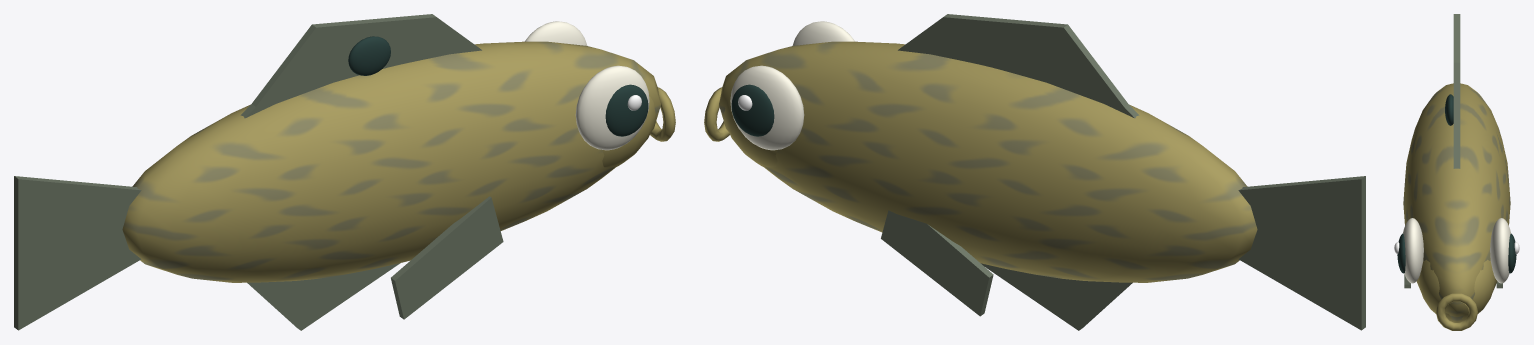
The model's file is hexagrammos-otakii.glb.
3 views of the same model, side by side, from view 1: azimuth 30°, elevation 25°; view 2: azimuth 150°, elevation 25°; view 3: azimuth 270°, elevation 25° (orthographic). The views are drawn at different scales.
Visible parts, largest first — view 1: hexagrammos-otakii, tail, pectoral-1, mouth; view 2: hexagrammos-otakii, tail, pectoral-0, mouth; view 3: hexagrammos-otakii, mouth, tail.
Part boxes in pixels (x1=…): hexagrammos-otakii: x1=122, y1=14, x2=660, y2=330; tail: x1=14, y1=176, x2=141, y2=330; pectoral-1: x1=391, y1=196, x2=503, y2=319; mouth: x1=650, y1=87, x2=675, y2=141; hexagrammos-otakii: x1=719, y1=14, x2=1257, y2=330; tail: x1=1238, y1=176, x2=1365, y2=330; pectoral-0: x1=881, y1=210, x2=993, y2=316; mouth: x1=704, y1=87, x2=729, y2=141; hexagrammos-otakii: x1=1394, y1=62, x2=1519, y2=322; mouth: x1=1436, y1=293, x2=1477, y2=330; tail: x1=1453, y1=14, x2=1460, y2=62.
Bounding box in the file's own units: 2.15 × 0.95 × 0.4906.
9 materials, 1 textured.
